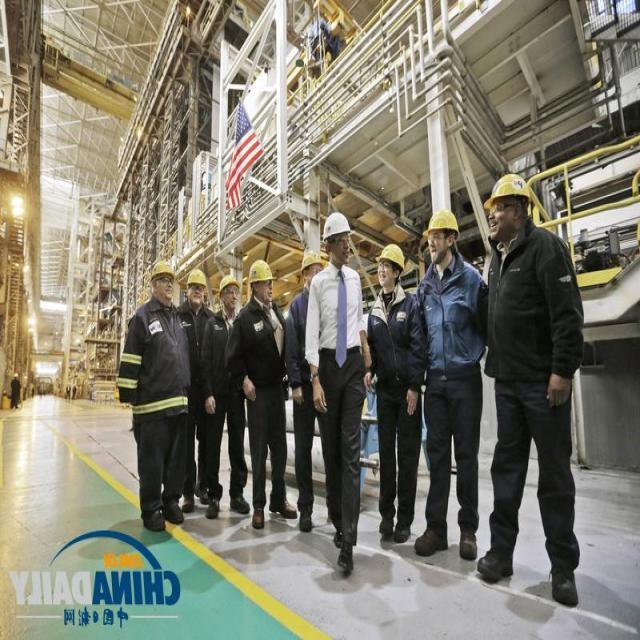Reflective-Jacket: (118, 305, 189, 415)
Safety-Helmet: (485, 171, 531, 210), (421, 206, 462, 237), (297, 244, 328, 275), (322, 209, 352, 240), (378, 241, 406, 268), (248, 257, 274, 284), (150, 257, 176, 280), (219, 273, 240, 292), (187, 268, 207, 287)
